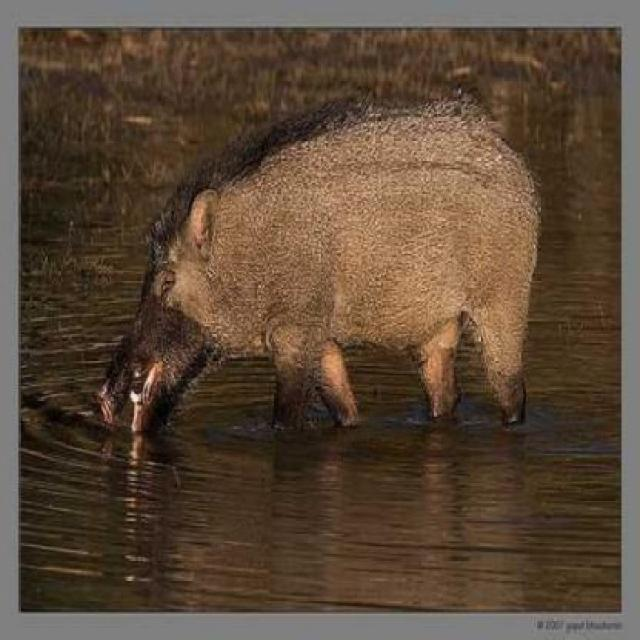pig: (80, 95, 545, 474)
